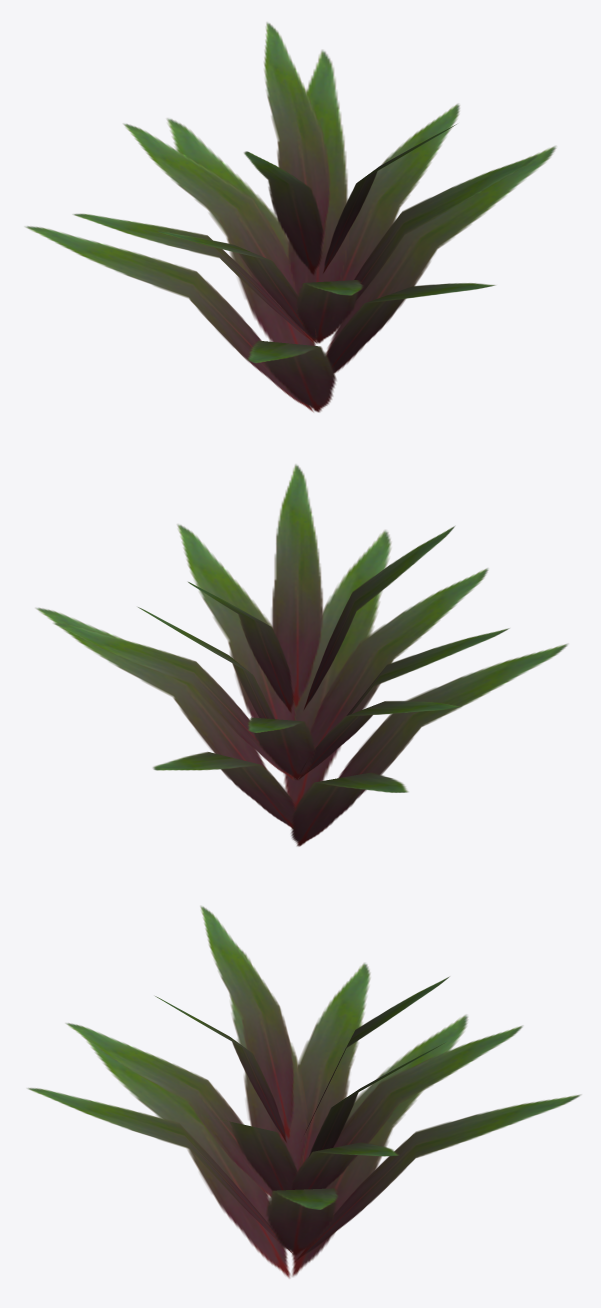
File: plant-16.glb
3 renders of one model, top to bottom at view 1: azimuth 30°, elevation 25°; view 2: azimuth 150°, elevation 25°; view 3: azimuth 270°, elevation 25°, orthographic. The views are drawn at different scales.
Visible parts, largest first — view 1: Plane_060; view 2: Plane_060; view 3: Plane_060.
Part boxes in pixels (<box>): Plane_060: <box>25,22,556,412</box>; Plane_060: <box>35,464,567,846</box>; Plane_060: <box>27,906,581,1278</box>.
Size of the model in its own units: 4.44 by 2.84 by 4.58.
1 material, 1 textured.
